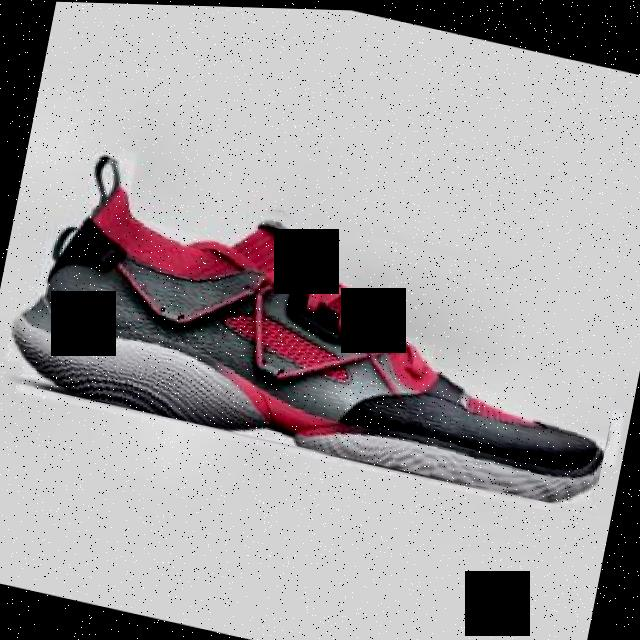shoe: (4, 143, 638, 510)
